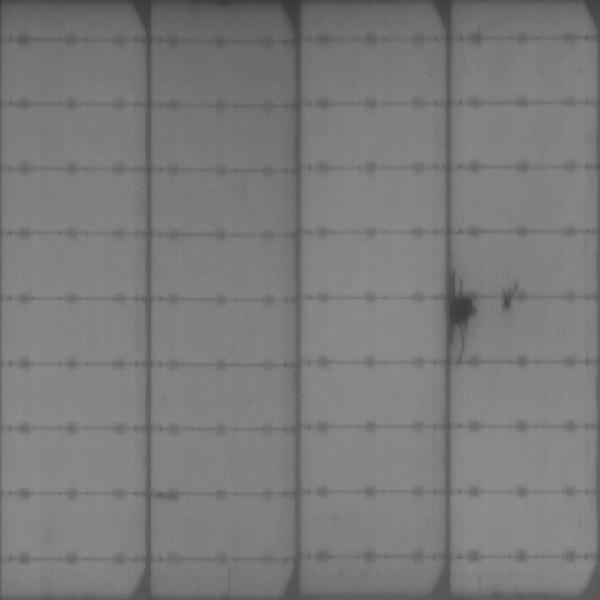broken: (450, 271, 478, 366), (501, 284, 516, 313)
